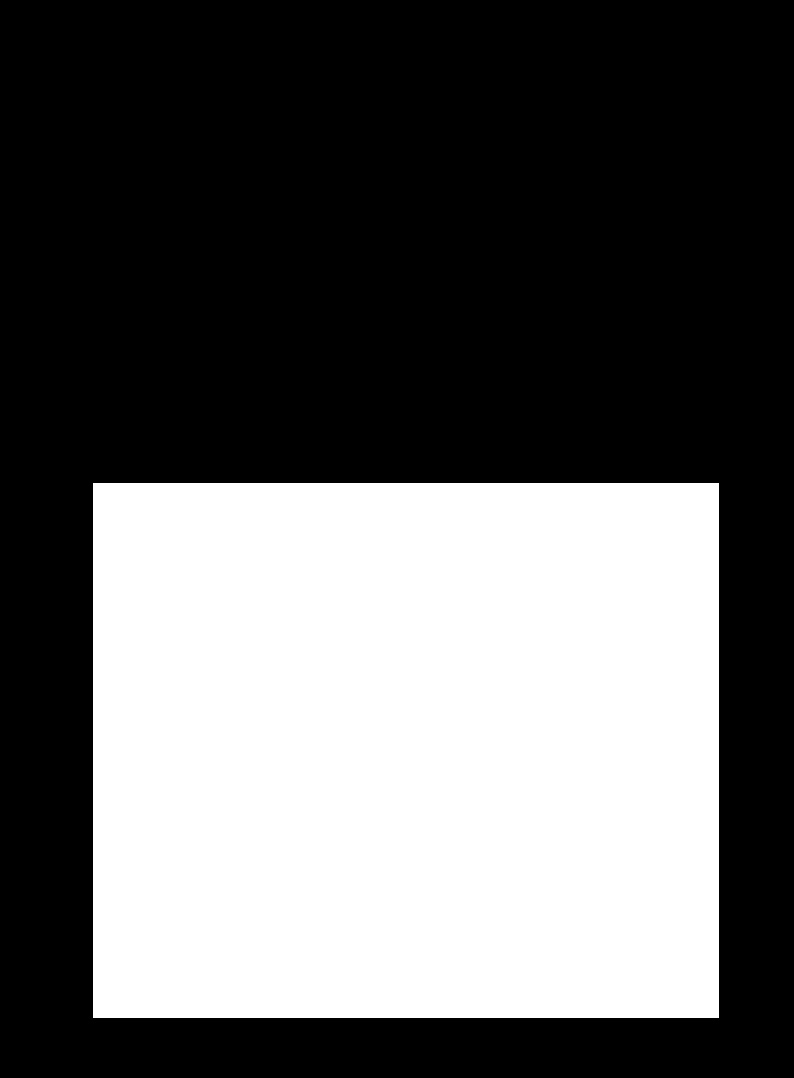table: (93, 483, 718, 1017)
